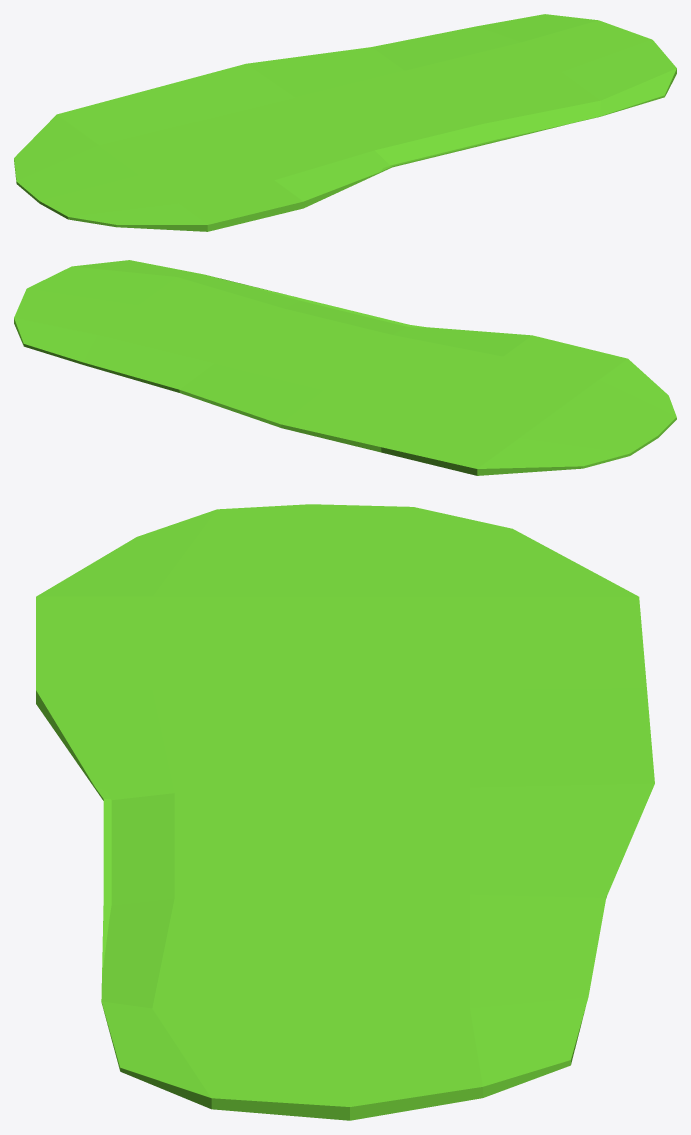
3 renders of one model, top to bottom at view 1: azimuth 30°, elevation 25°; view 2: azimuth 150°, elevation 25°; view 3: azimuth 270°, elevation 25°, orthographic. The views are drawn at different scales.
Parts seen in each view (by area): view 1: Cube; view 2: Cube; view 3: Cube.
Part boxes in pixels (bbox=[...]): Cube: bbox=[14, 14, 676, 231]; Cube: bbox=[14, 260, 676, 475]; Cube: bbox=[36, 504, 654, 1120].
Bounding box in the file's own units: 5929 × 68.66 × 2555.
